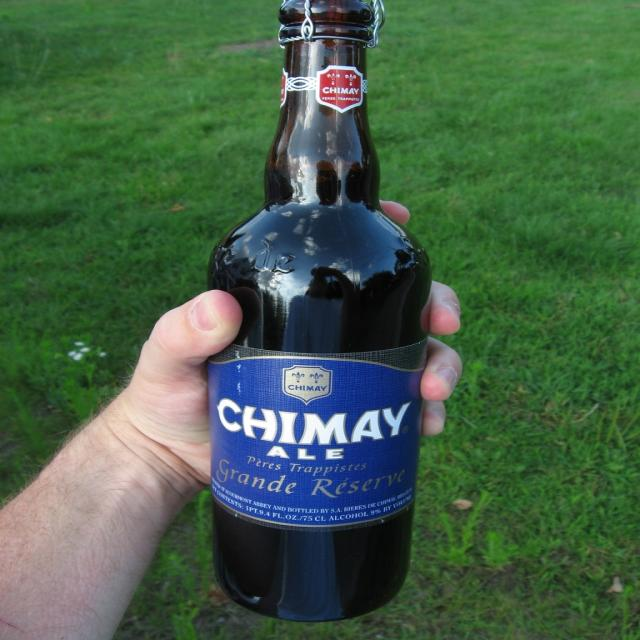chimay: (208, 355, 426, 529)
